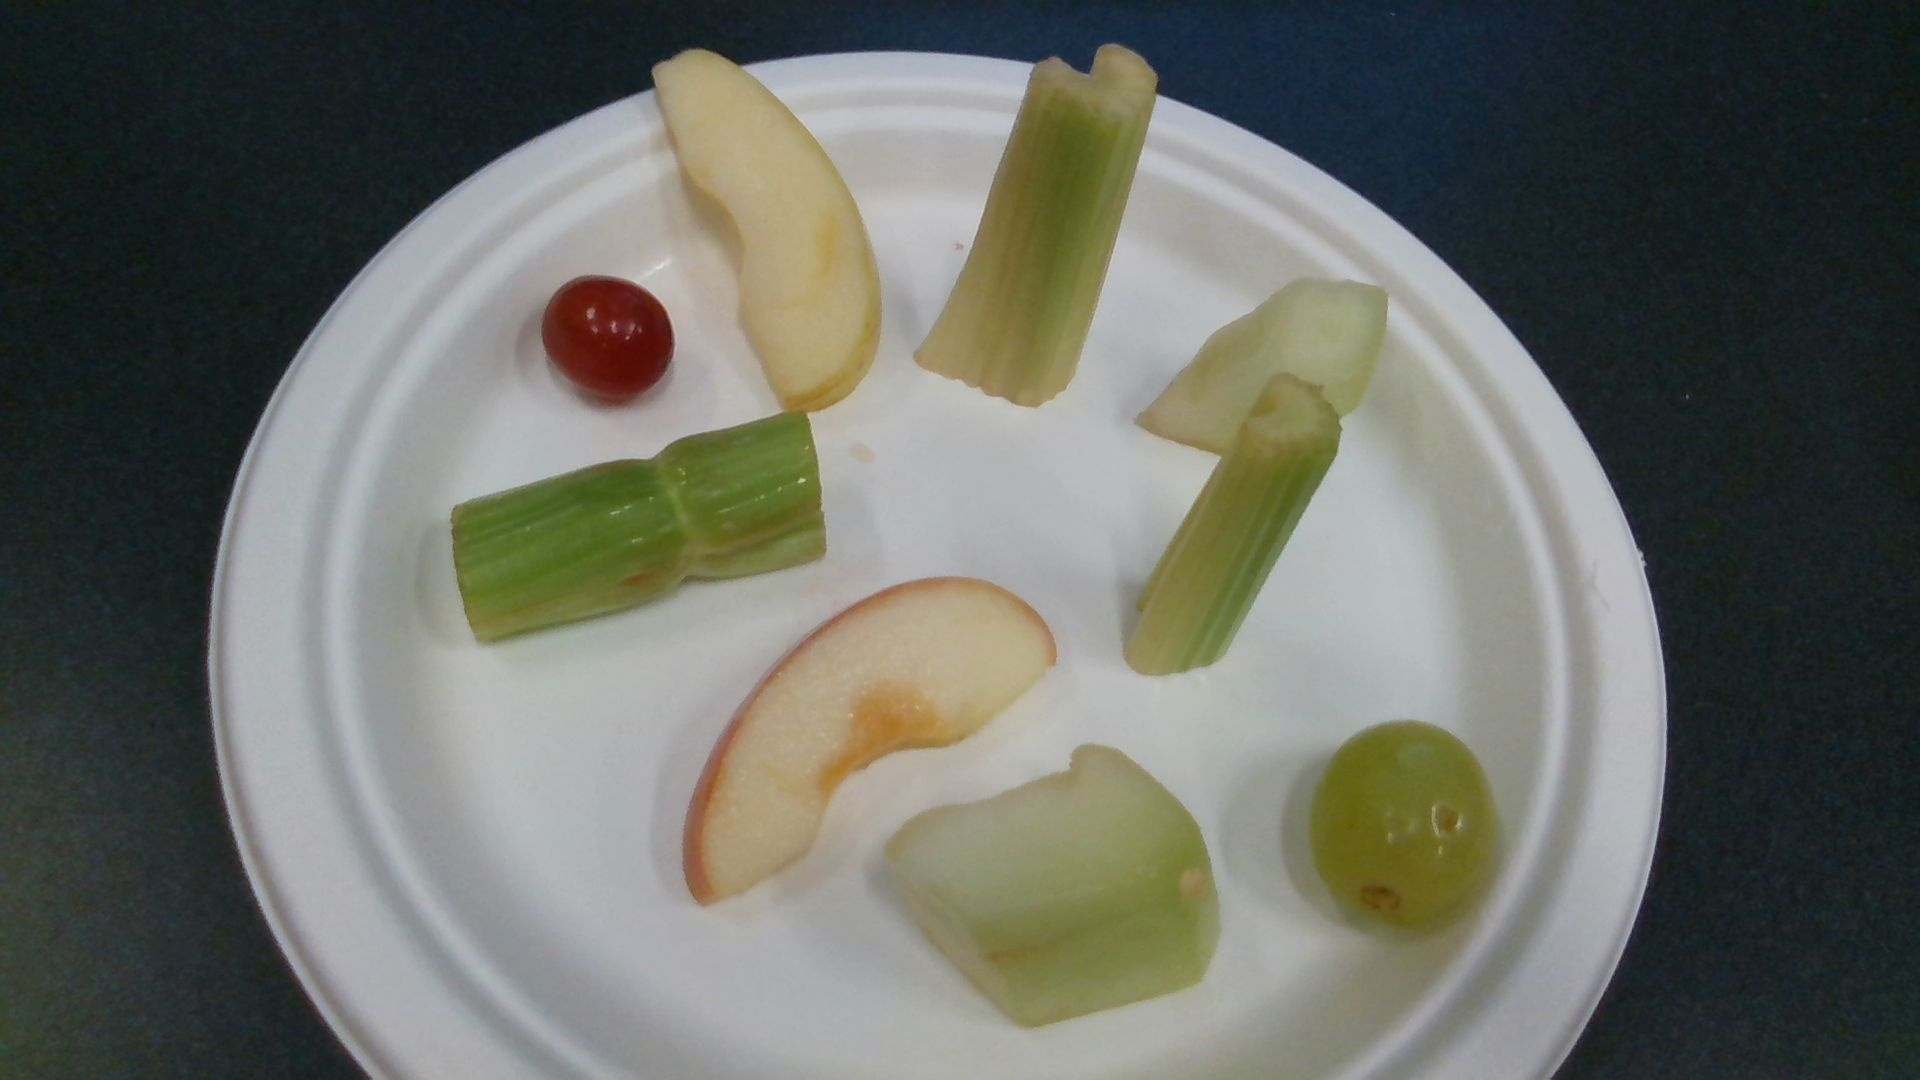apple: (684, 580, 1055, 905), (651, 50, 880, 413)
cantalope: (884, 745, 1222, 1026), (1135, 284, 1387, 455)
celery: (914, 45, 1155, 406), (454, 415, 825, 641), (1129, 376, 1342, 671)
grape_green: (1313, 723, 1499, 924)
grape_purple: (545, 278, 675, 401)
